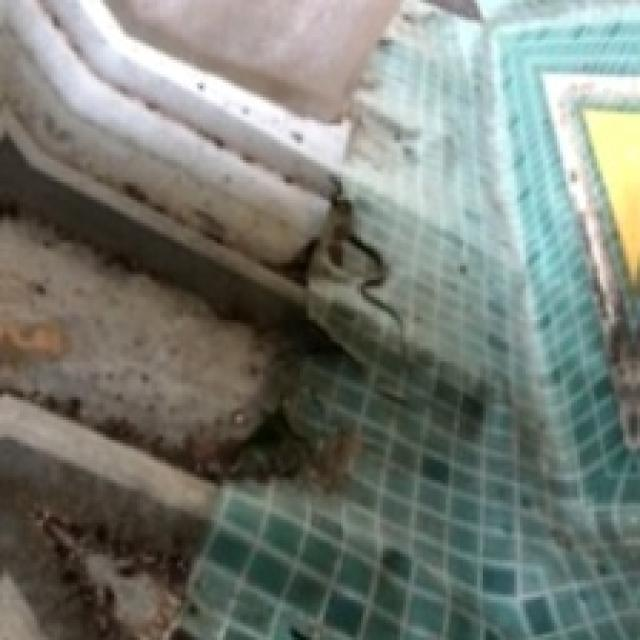paradise tree snake: (0, 0, 637, 637), (37, 49, 160, 200)
